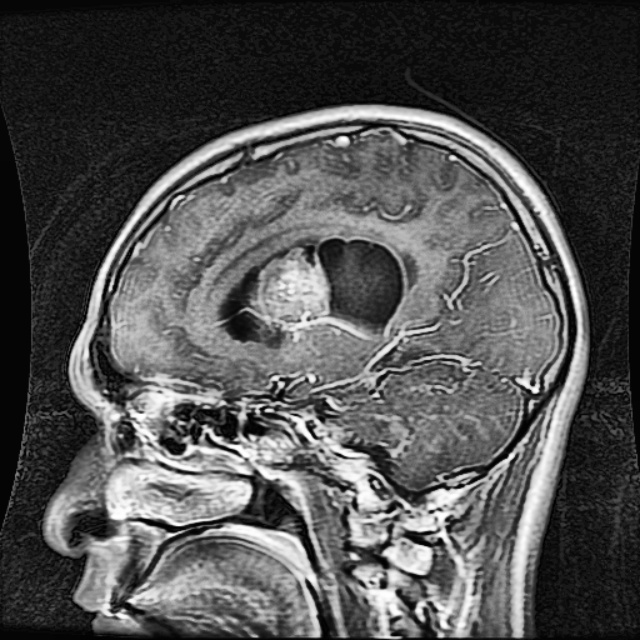Meningioma: (219, 237, 403, 342)
